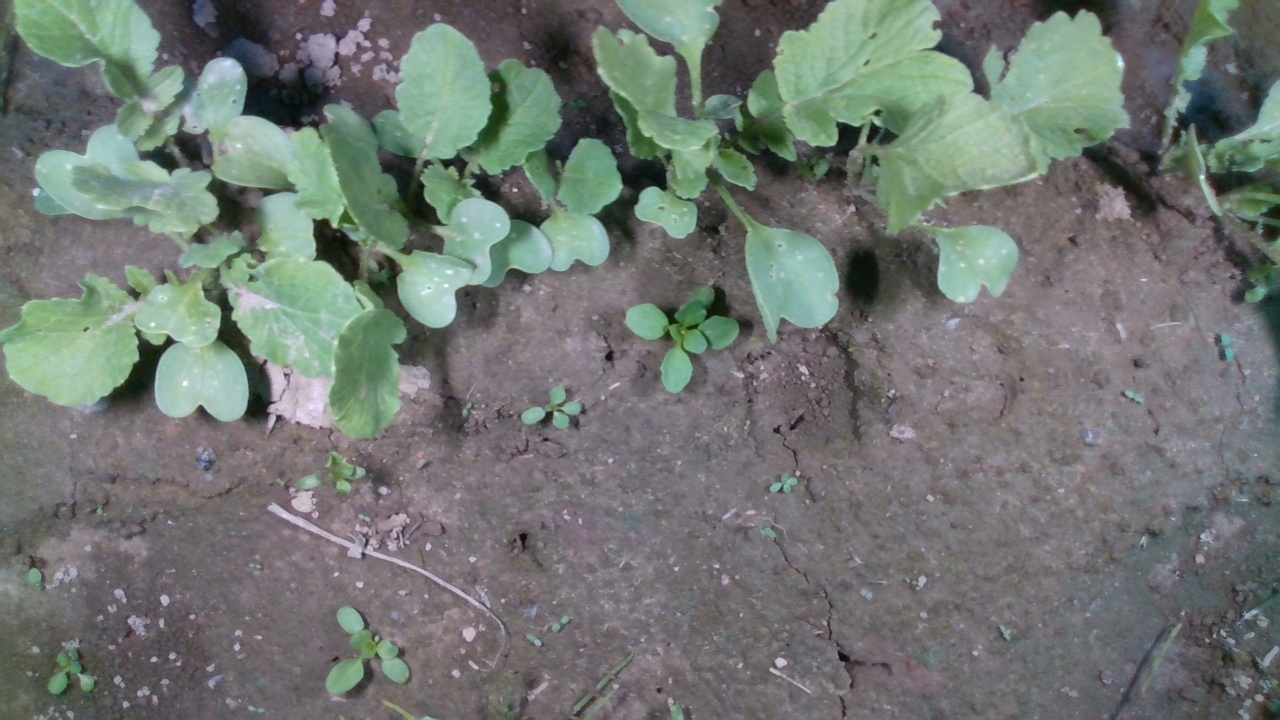weed: (517, 384, 584, 432), (46, 646, 97, 696), (767, 469, 799, 493), (1219, 329, 1234, 365), (1123, 386, 1147, 405), (550, 614, 571, 633), (524, 633, 542, 648), (461, 400, 472, 417)
